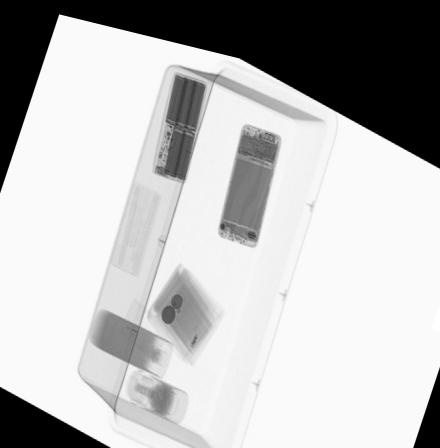Powerbank: (149, 60, 204, 177)
